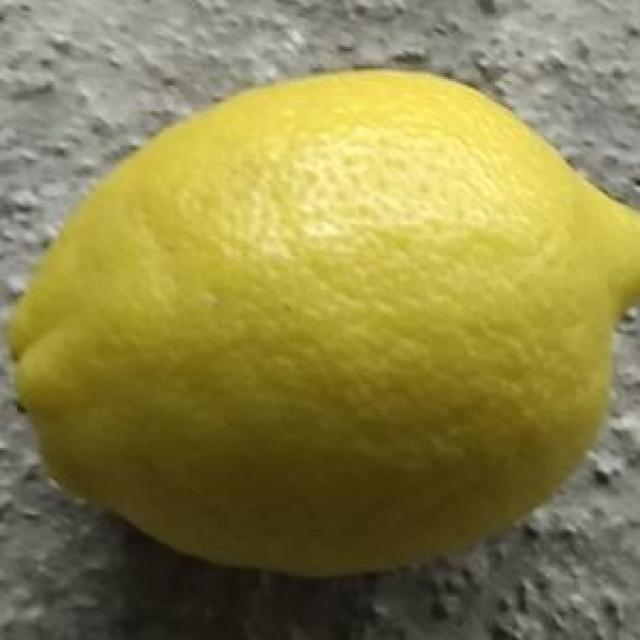lemon: (6, 65, 638, 578)
